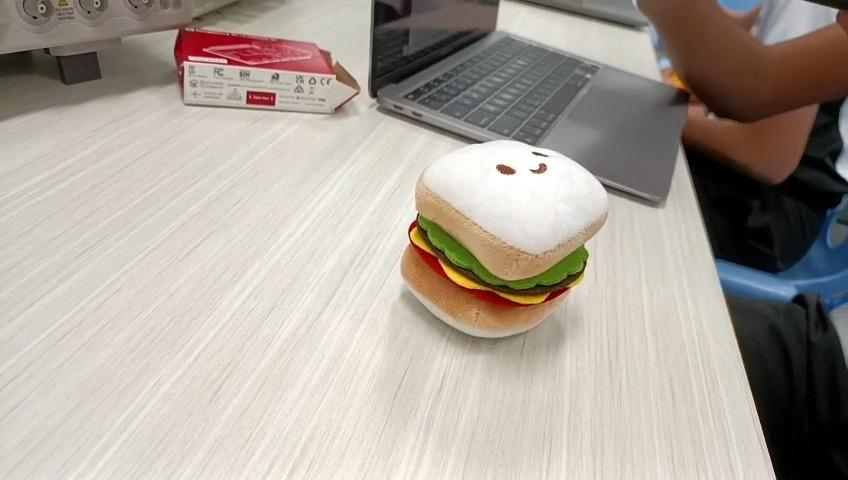objects: (398, 140, 613, 345)
